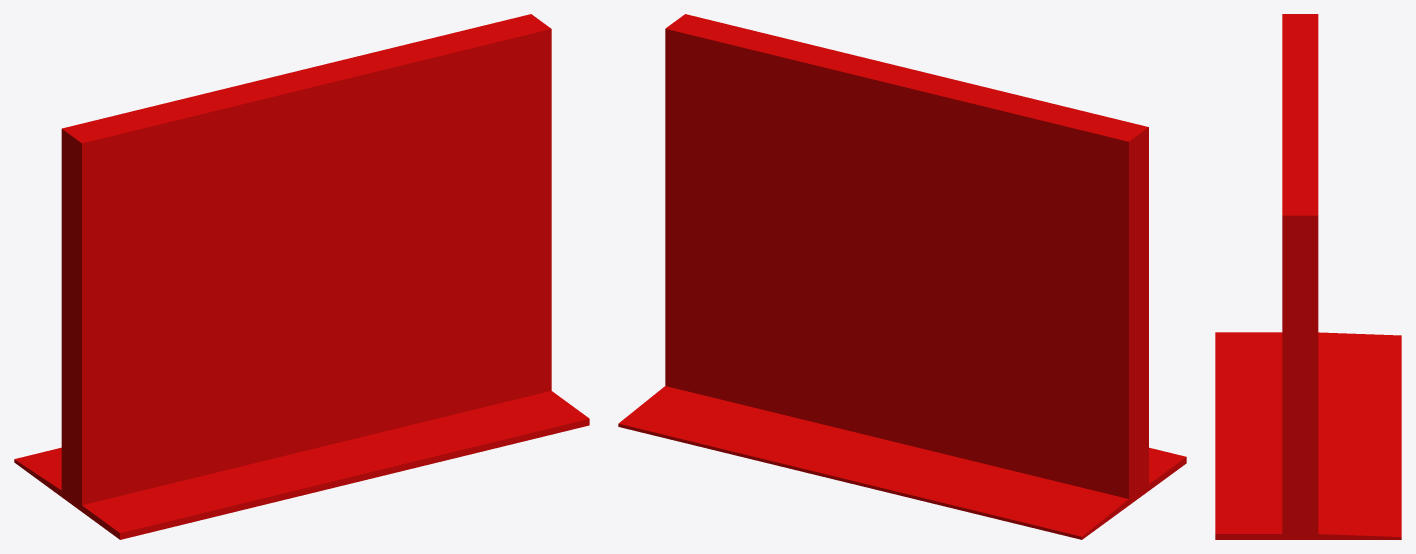
File: SM_SingleWindowCollider.fbx
3 views of the same model, side by side, from view 1: azimuth 30°, elevation 25°; view 2: azimuth 150°, elevation 25°; view 3: azimuth 270°, elevation 25° (orthographic). The views are drawn at different scales.
Visible parts, largest first — view 1: SingleWindowCollision; view 2: SingleWindowCollision; view 3: SingleWindowCollision.
Part boxes in pixels (x1,y1,x2,y2): SingleWindowCollision: [14, 14, 589, 539]; SingleWindowCollision: [618, 14, 1186, 539]; SingleWindowCollision: [1215, 14, 1401, 539].
Size of the model in its own units: 200 by 150 by 78.15.
